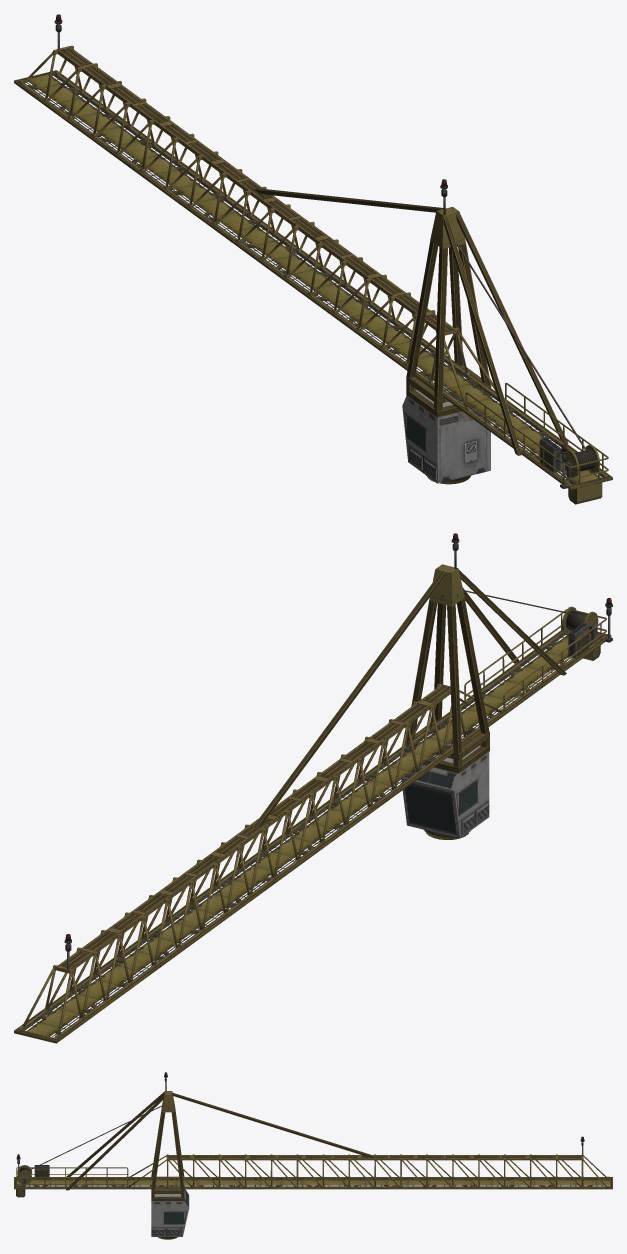
The model's file is jib.obj.
3 views of the same model, one above another, from view 1: azimuth 30°, elevation 25°; view 2: azimuth 150°, elevation 25°; view 3: azimuth 270°, elevation 25° (orthographic). The views are drawn at different scales.
Visible parts, largest first — view 1: Jib_Cube.135; view 2: Jib_Cube.135; view 3: Jib_Cube.135.
Part boxes in pixels (left/top/right/bottom): Jib_Cube.135: left=14, top=14, right=612, bottom=504; Jib_Cube.135: left=14, top=533, right=612, bottom=1043; Jib_Cube.135: left=14, top=1072, right=612, bottom=1239.
Bounding box in the file's own units: 1.74 × 9 × 30.5.
